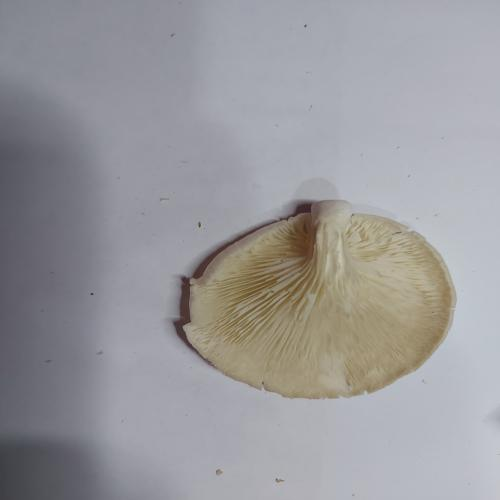Oyster Mushroom: (181, 198, 457, 400)
